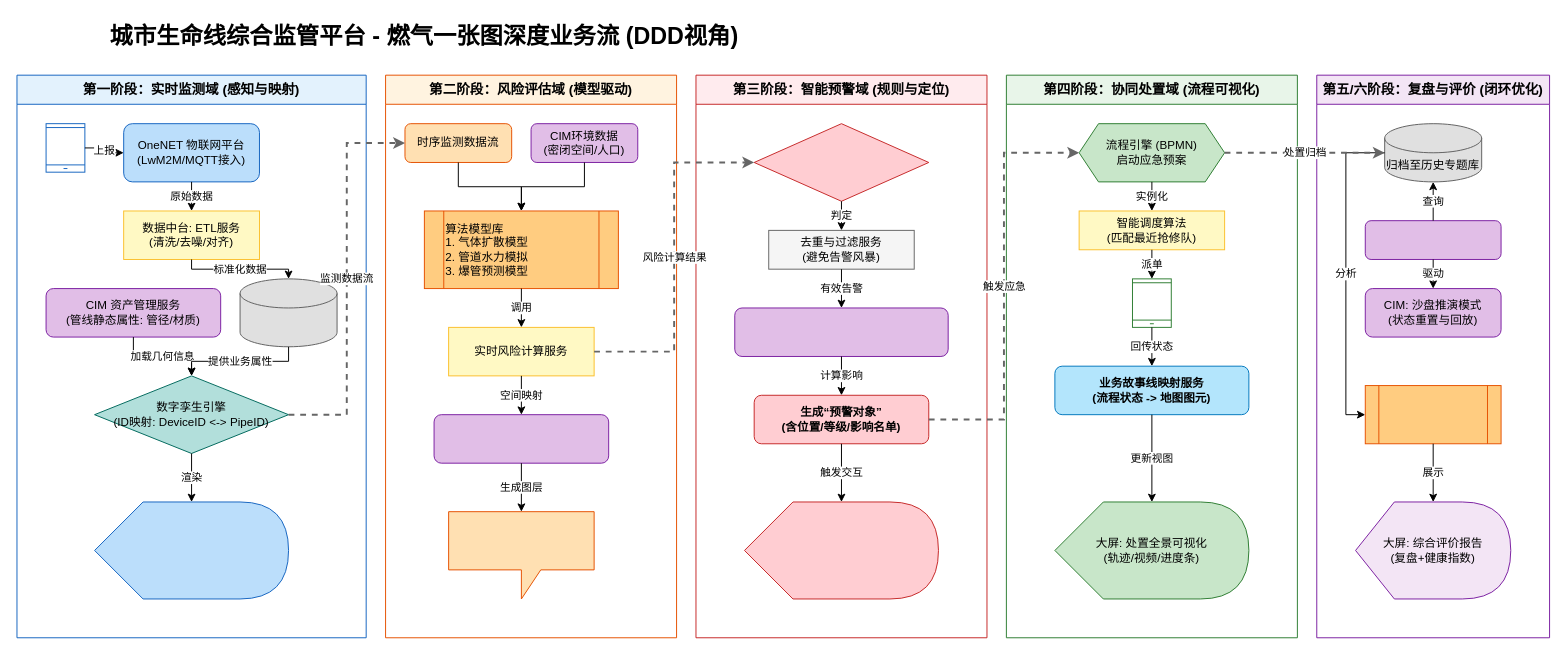
The diagram is 1567 pixels wide and 655 high, and some of its shapes have lost their labels. Here are the shapes that lost their labels. From the top down, the centre of each, then its label:
At pixel 65 147: "IoT感知设备 (压力/流量/浓度)".
At pixel 841 162: "智能规则引擎 (阈值 + 趋势 + 模型)".
At pixel 1432 239: "时序播放控制器 (时间轴组件)".
At pixel 288 312: "燃气安全专题库 (Subject DB)".
At pixel 1151 302: "移动端: 抢修APP (接单/轨迹/视频回传)".
At pixel 841 331: "CIM 拓扑分析服务 (向上追溯阀门/向下追溯用户)".
At pixel 1432 414: "管网健康度模型 (大数据分析)".
At pixel 521 438: "CIM 空间分析服务 (风险叠加与范围计算)".
At pixel 191 550: "大屏: 3D管网运行态势 (全生命周期弹窗)".
At pixel 521 555: "大屏: 动态风险云图 (爆炸当量/影响范围)".
At pixel 841 550: "大屏: 自动运镜+高亮 (四色预警弹窗)".
